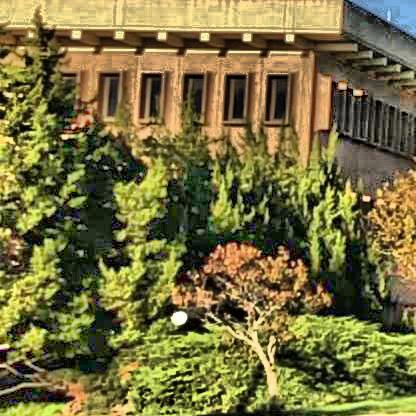golfball: (167, 305, 186, 322)
